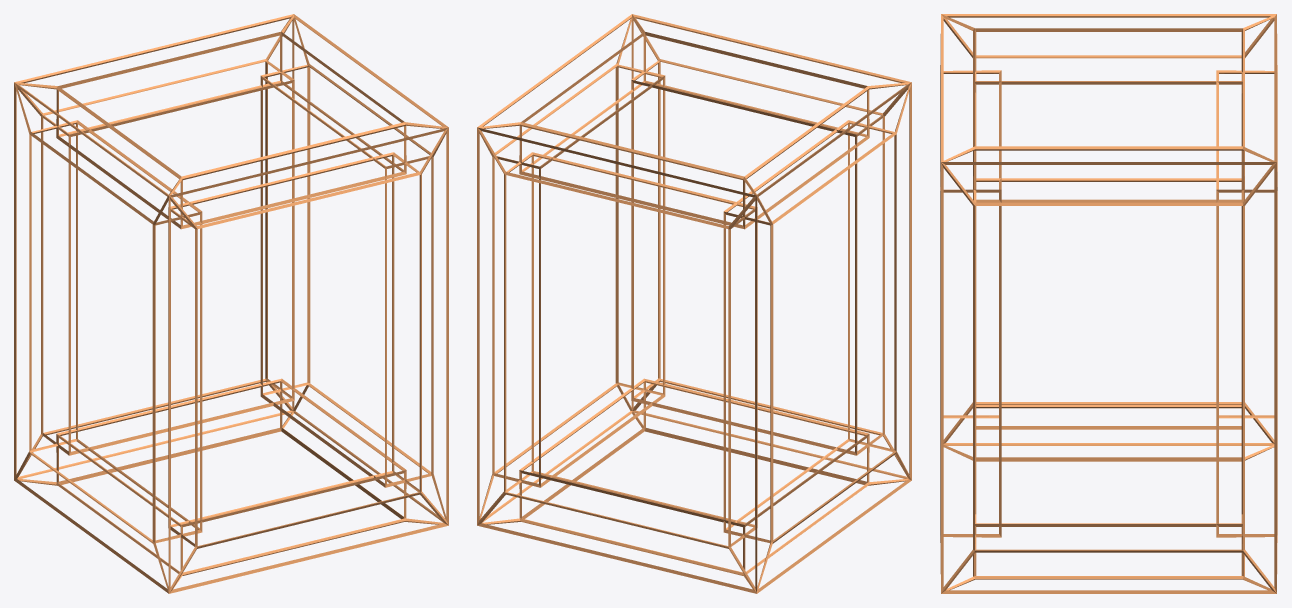
File: storage_box.glb
3 renders of one model, left to right at view 1: azimuth 30°, elevation 25°; view 2: azimuth 150°, elevation 25°; view 3: azimuth 270°, elevation 25°, orthographic. The views are drawn at different scales.
Visible parts, largest first — view 1: Cube; view 2: Cube; view 3: Cube.
Part boxes in pixels (x1,y1,x2,y2): Cube: (14, 14, 448, 593); Cube: (477, 14, 911, 593); Cube: (940, 14, 1277, 593).
Size of the model in its own units: 1.72 by 2.34 by 1.65.
